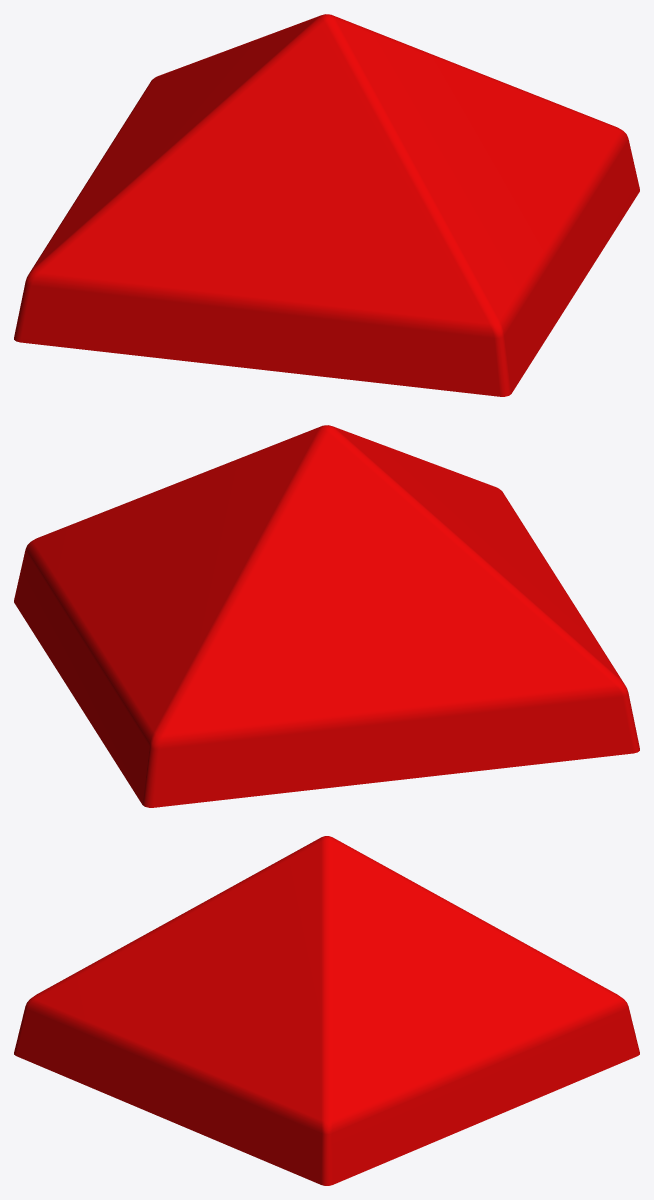
File: Obstacle.fbx
3 renders of one model, top to bottom at view 1: azimuth 30°, elevation 25°; view 2: azimuth 150°, elevation 25°; view 3: azimuth 270°, elevation 25°, orthographic. The views are drawn at different scales.
Visible parts, largest first — view 1: Obstacle_Mesh; view 2: Obstacle_Mesh; view 3: Obstacle_Mesh.
Part boxes in pixels (box(x1,y1,x2,y2)): Obstacle_Mesh: box(14, 14, 639, 396); Obstacle_Mesh: box(14, 425, 639, 807); Obstacle_Mesh: box(14, 836, 639, 1185).
Bounding box in the file's own units: 386 × 147 × 386.
